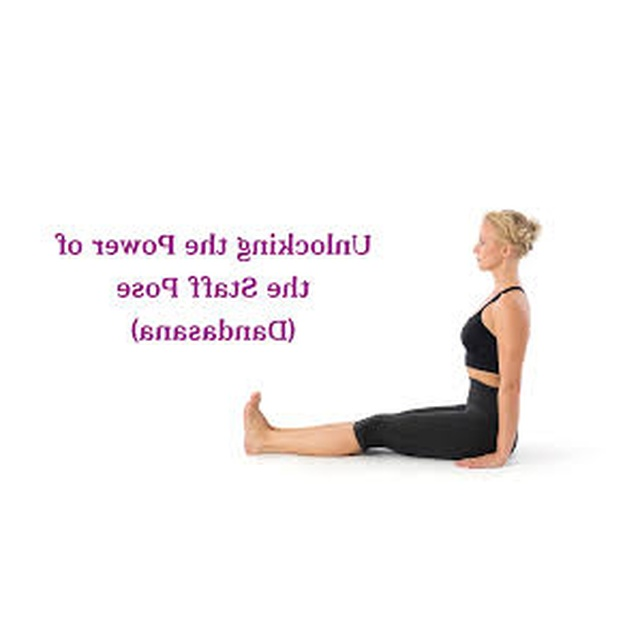Staff_Pose: (244, 212, 539, 470)
